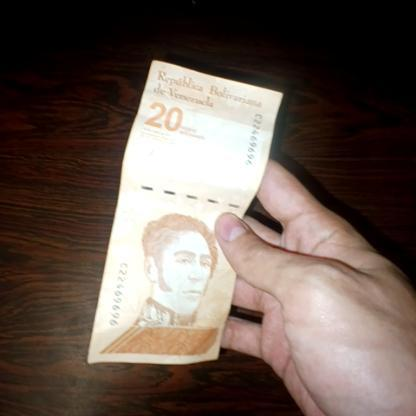twenty-front-vef: (87, 60, 282, 366)
